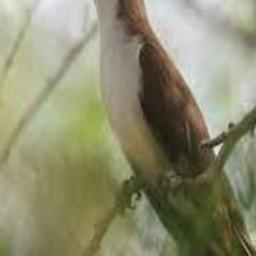Cuckoo: (70, 0, 256, 256)
